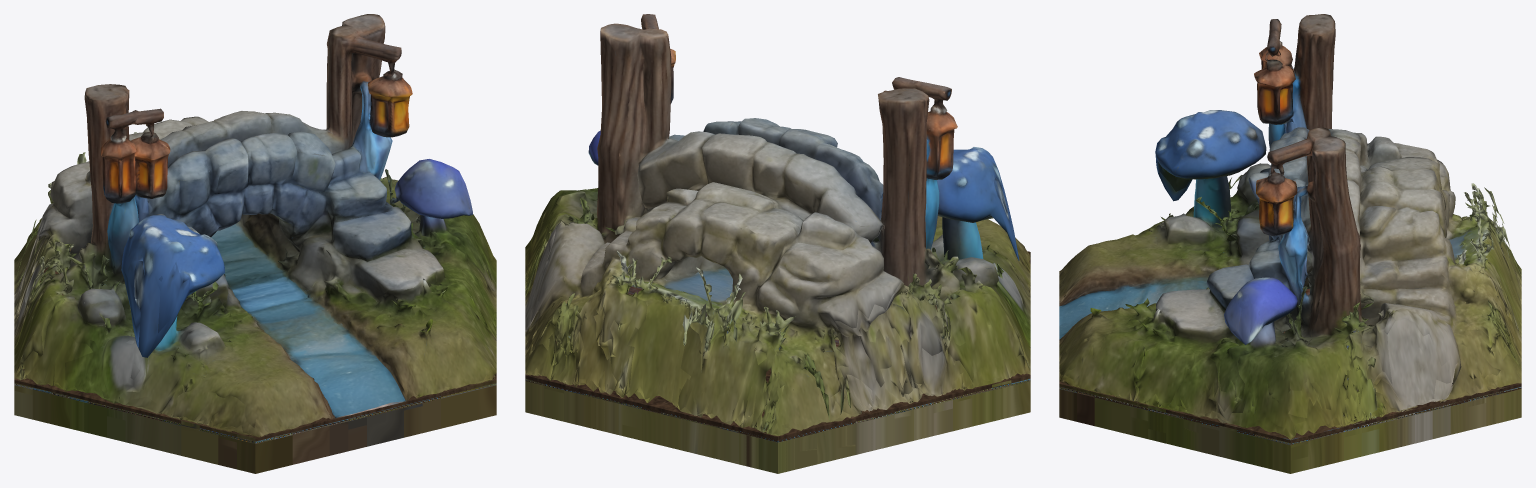
Rendered from hex_lantern_bridge.glb.
The picture shows the model from 3 angles, left to right: view 1: azimuth 30°, elevation 25°; view 2: azimuth 150°, elevation 25°; view 3: azimuth 270°, elevation 25°; orthographic projection. The views are drawn at different scales.
Parts seen in each view (by area): view 1: hex_lantern_bridge_s13_fit; view 2: hex_lantern_bridge_s13_fit; view 3: hex_lantern_bridge_s13_fit.
Boxes of the visible parts, x1,y1,x2,y2 form: hex_lantern_bridge_s13_fit: [14, 14, 496, 473]; hex_lantern_bridge_s13_fit: [525, 14, 1030, 473]; hex_lantern_bridge_s13_fit: [1059, 14, 1521, 473].
Size of the model in its own units: 5.11 by 2.92 by 4.42.
Materials: 1 (1 with a texture image).
